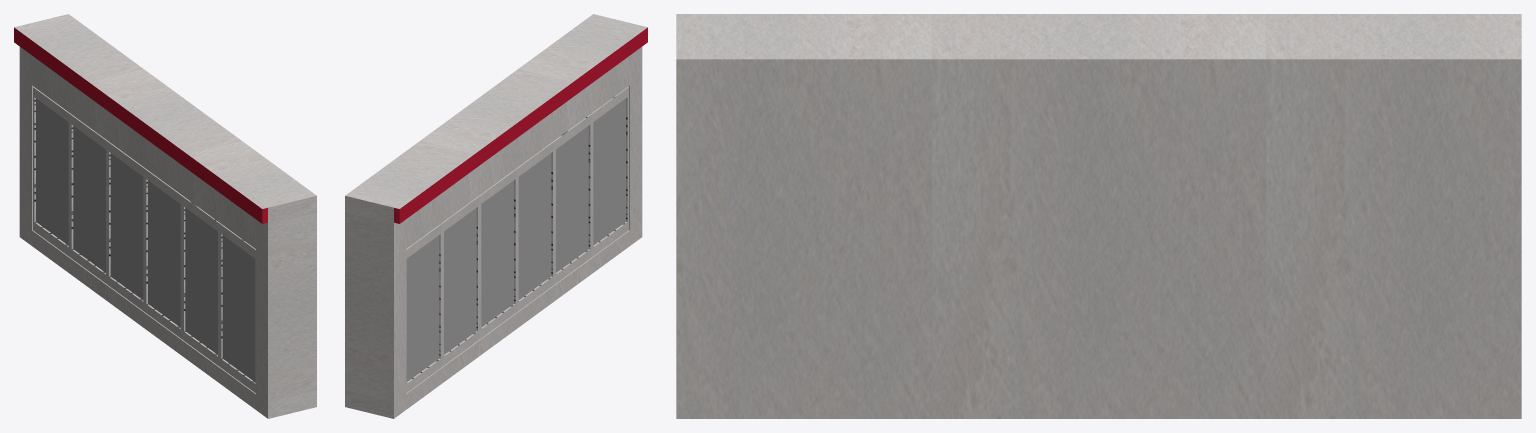
File: wall_Fridges.fbx
3 views of the same model, side by side, from view 1: azimuth 30°, elevation 25°; view 2: azimuth 150°, elevation 25°; view 3: azimuth 270°, elevation 25° (orthographic). The views are drawn at different scales.
Parts seen in each view (by area): view 1: wall_fridges, door_window, fridges; view 2: wall_fridges, door_window, fridges; view 3: wall_fridges.
Part boxes in pixels (bbox=[...]): wall_fridges: bbox=[14, 14, 316, 418]; door_window: bbox=[36, 98, 255, 381]; fridges: bbox=[33, 86, 255, 392]; wall_fridges: bbox=[345, 14, 647, 418]; door_window: bbox=[406, 98, 625, 381]; fridges: bbox=[406, 86, 628, 392]; wall_fridges: bbox=[676, 14, 1521, 418].
Size of the model in its own units: 86.28 by 319 by 679.
